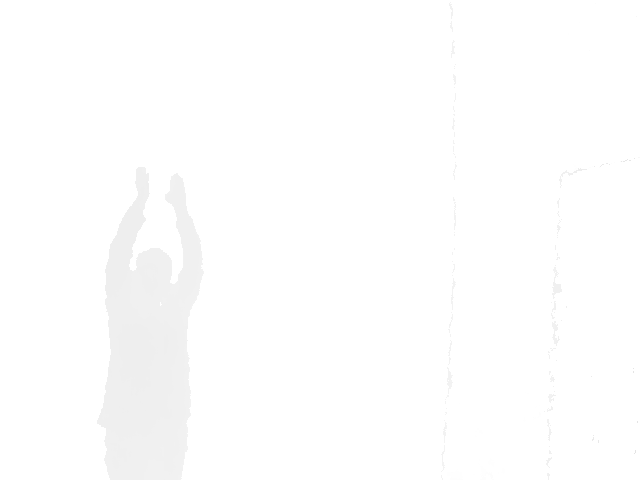hand: (163, 174, 188, 208), (134, 165, 150, 201)
head: (135, 247, 172, 295)
person: (95, 165, 205, 479)
